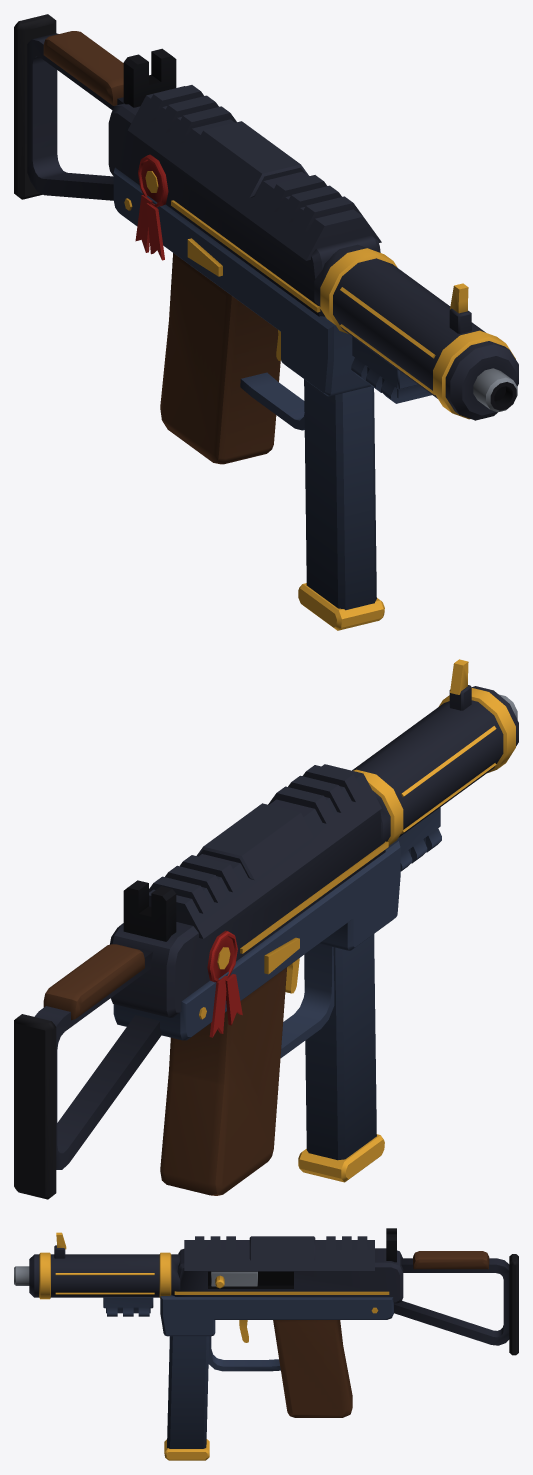
File: insider_trader.glb
3 views of the same model, one above another, from view 1: azimuth 30°, elevation 25°; view 2: azimuth 150°, elevation 25°; view 3: azimuth 270°, elevation 25° (orthographic). The views are drawn at different scales.
Visible parts, largest first — view 1: frame, mag; view 2: frame, mag; view 3: frame, mag, bolt.
Boxes of the visible parts, x1,y1,x2,y2 form: frame: (14, 14, 518, 464); mag: (298, 379, 384, 630); frame: (14, 659, 518, 1199); mag: (298, 934, 384, 1182); frame: (14, 1228, 518, 1417); mag: (164, 1336, 209, 1460); bolt: (211, 1271, 257, 1288).
Size of the model in its own units: 0.235 by 1.03 by 2.12.
1 material, 1 textured.
